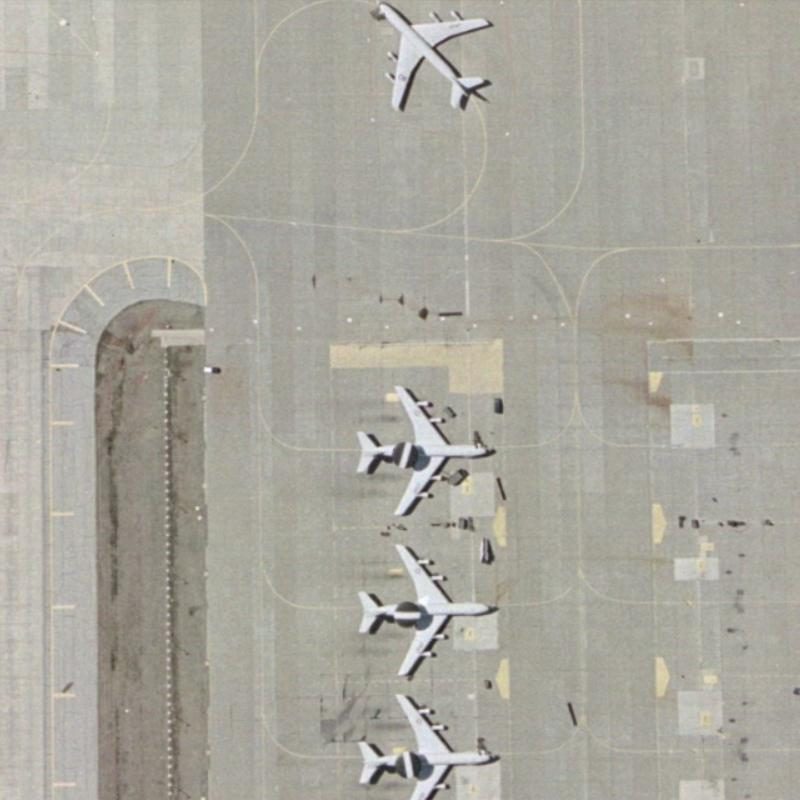A11: (359, 0, 500, 115)
A7: (348, 536, 498, 682), (349, 375, 496, 521), (349, 685, 502, 799)
